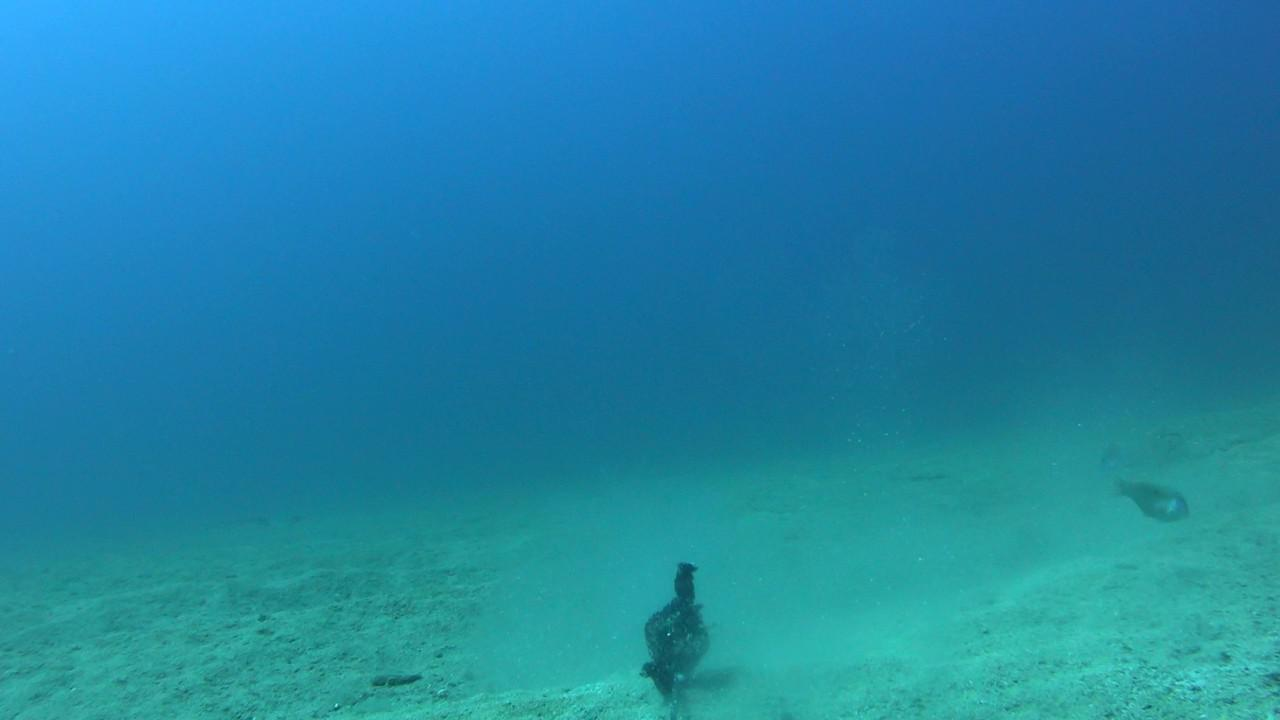myliobatis: (210, 508, 332, 548)
raor: (1109, 468, 1194, 526)
